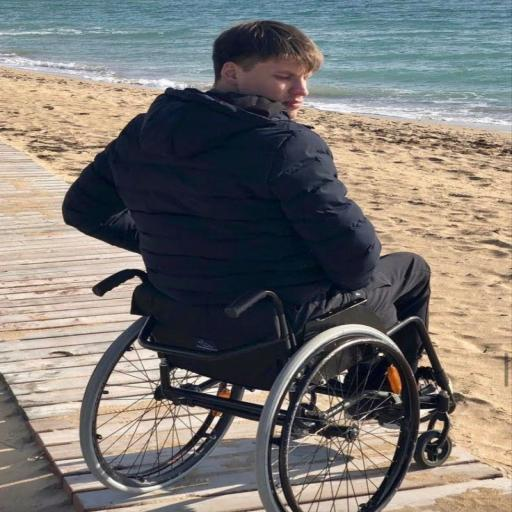crosswalk: (63, 20, 430, 370)
road: (80, 270, 455, 512)
